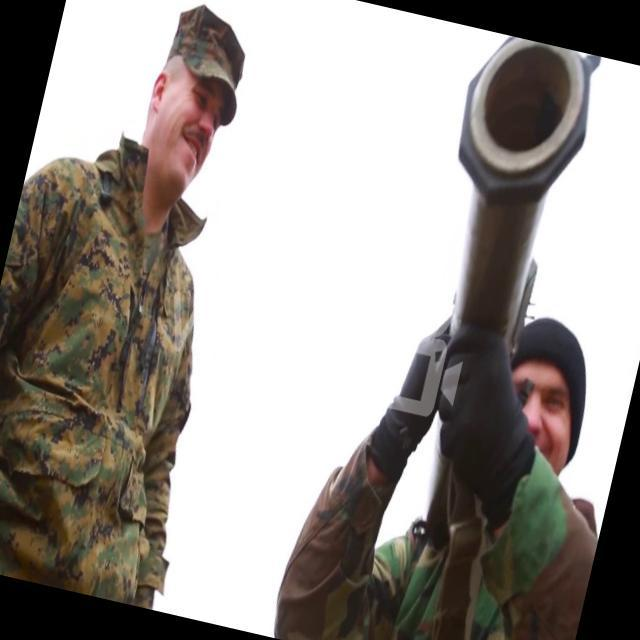rocket: (413, 29, 605, 352)
